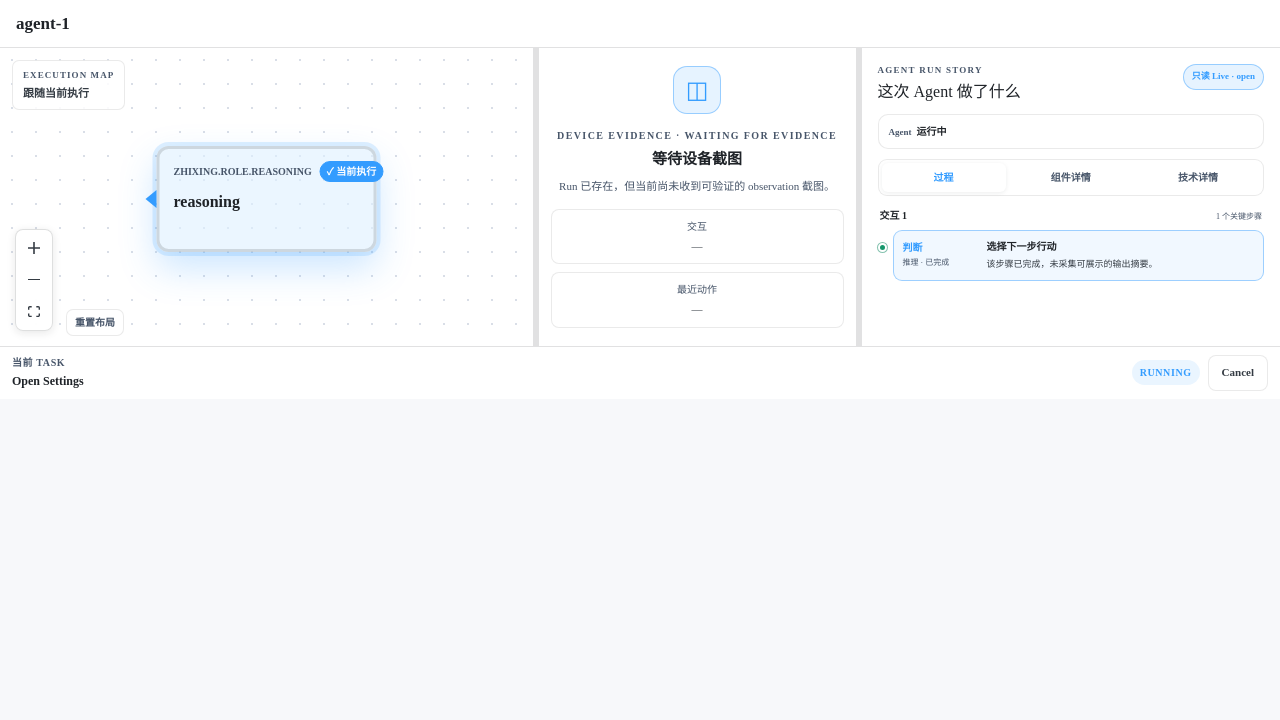
Test: ThreePaneLiveRunWorkbench › follows live facts while allowing a historical Inspector lock
Click the button "判断 推理 · 已完成 选择下一步行动 该步骤已完成，未采集可展示的输出摘要。" at x=1078, y=256, box [892,230,1264,281]
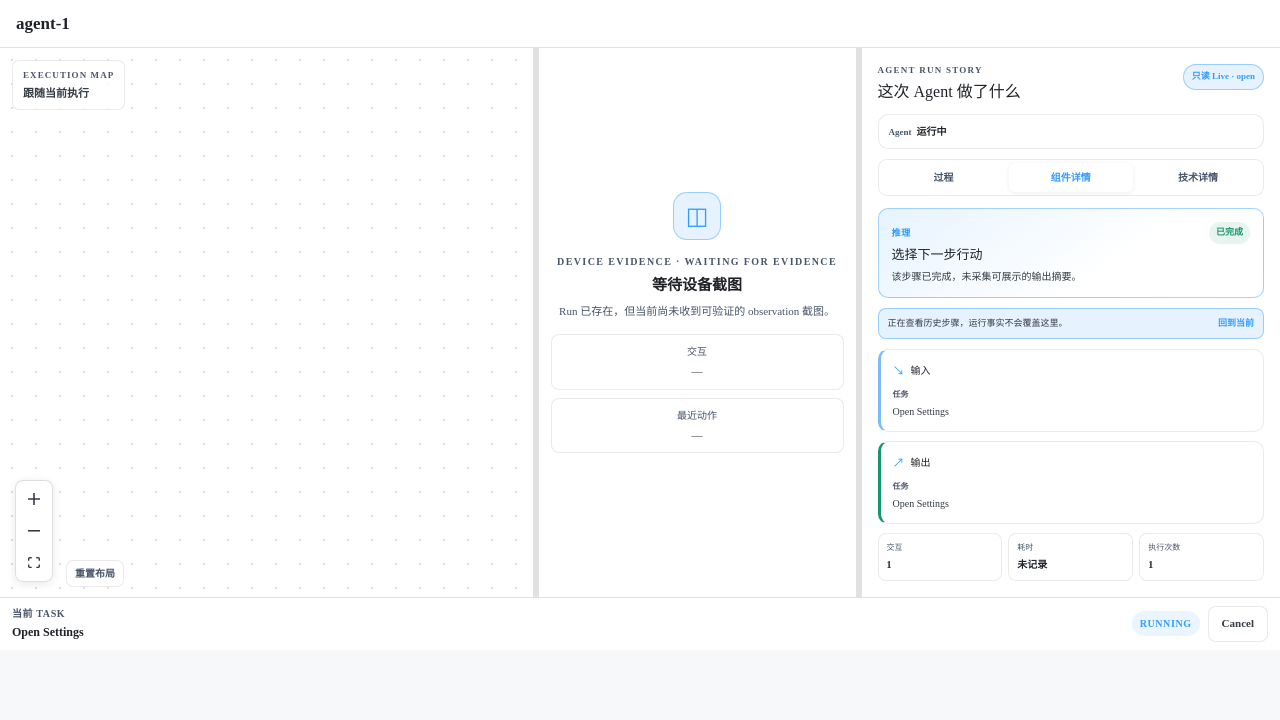
Expected: the element named "Virtual Phone" is shown, [538,48,856,597]
Expected: the button "回到当前" is shown, [1218,317,1254,330]
